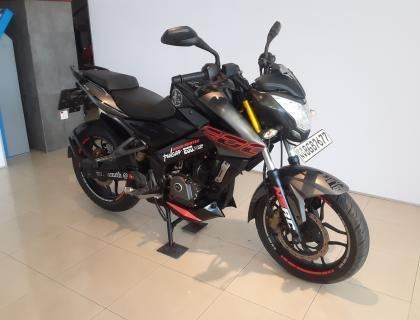motorbike: (58, 20, 371, 284)
